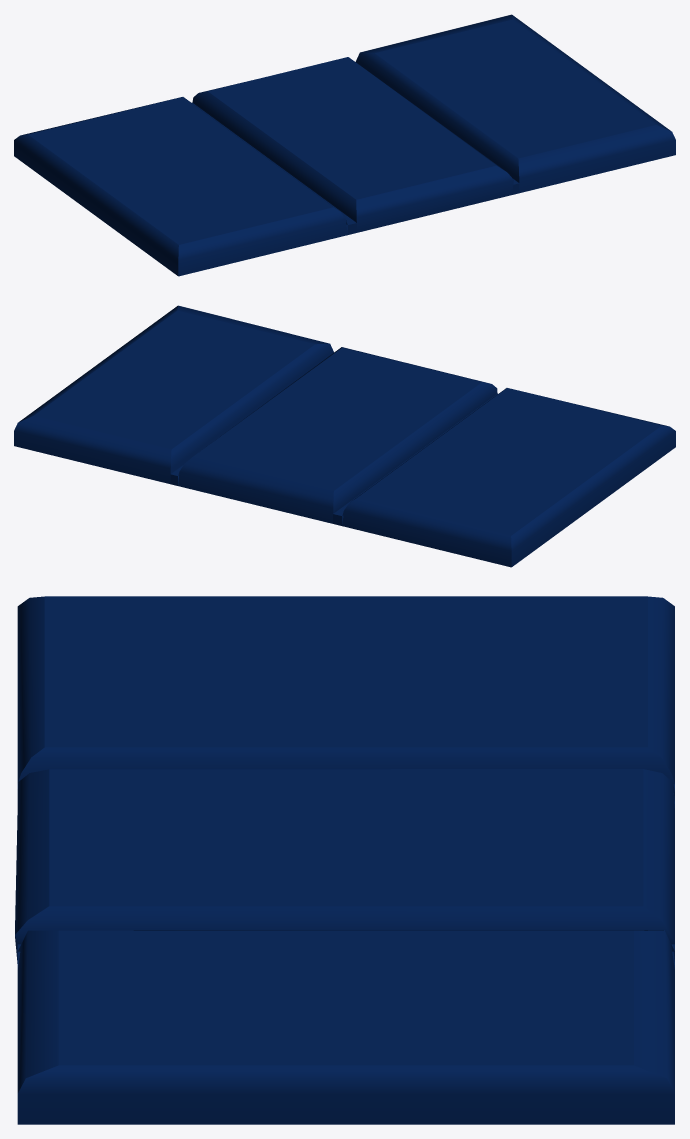
Rendered from Gym Mat.fbx.
3 views of the same model, one above another, from view 1: azimuth 30°, elevation 25°; view 2: azimuth 150°, elevation 25°; view 3: azimuth 270°, elevation 25° (orthographic). The views are drawn at different scales.
Parts seen in each view (by area): view 1: mat; view 2: mat; view 3: mat.
Part boxes in pixels (box(x1,y1,x2,y2)): mat: box(14, 14, 675, 276); mat: box(14, 305, 675, 567); mat: box(15, 596, 674, 1124).
Size of the model in its own units: 638 by 31.24 by 367.
